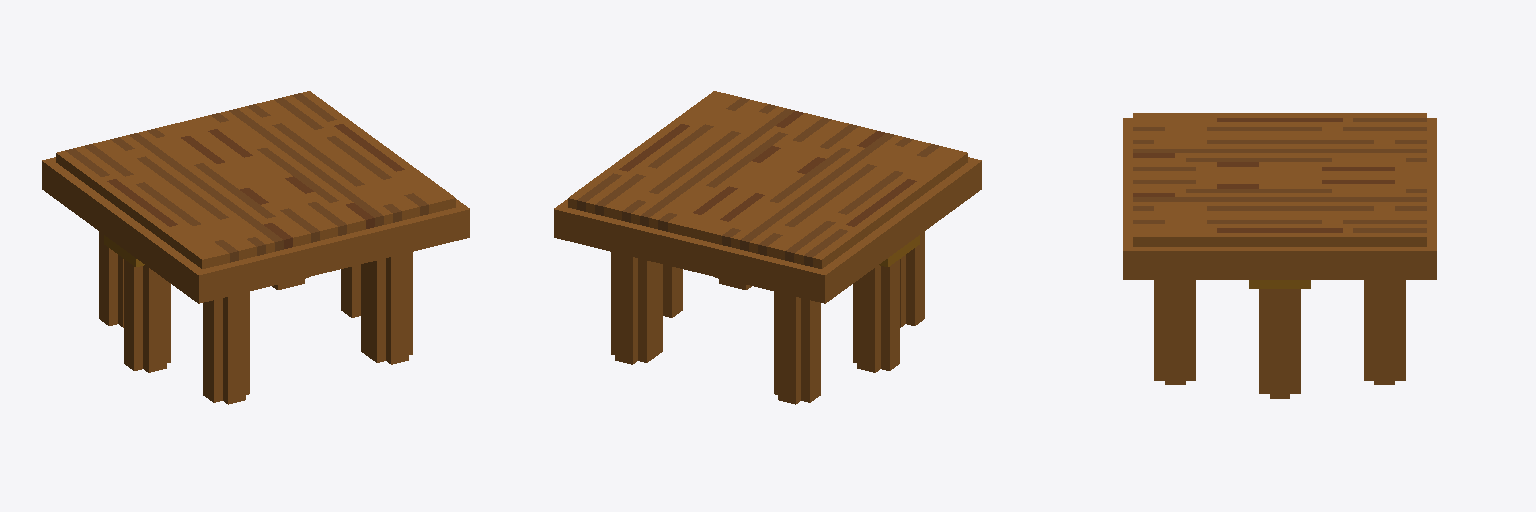
The picture shows the model from 3 angles: view 1: azimuth 30°, elevation 25°; view 2: azimuth 150°, elevation 25°; view 3: azimuth 270°, elevation 25°; orthographic projection.
Visible parts, largest first — view 1: object 1; view 2: object 1; view 3: object 1.
Part boxes in pixels (x1,y1,x2,y2): object 1: (42, 91, 469, 404); object 1: (554, 91, 981, 404); object 1: (1123, 113, 1436, 398).
Bounding box in the file's own units: 3 × 1.7 × 3.
1 materials, 1 textured.